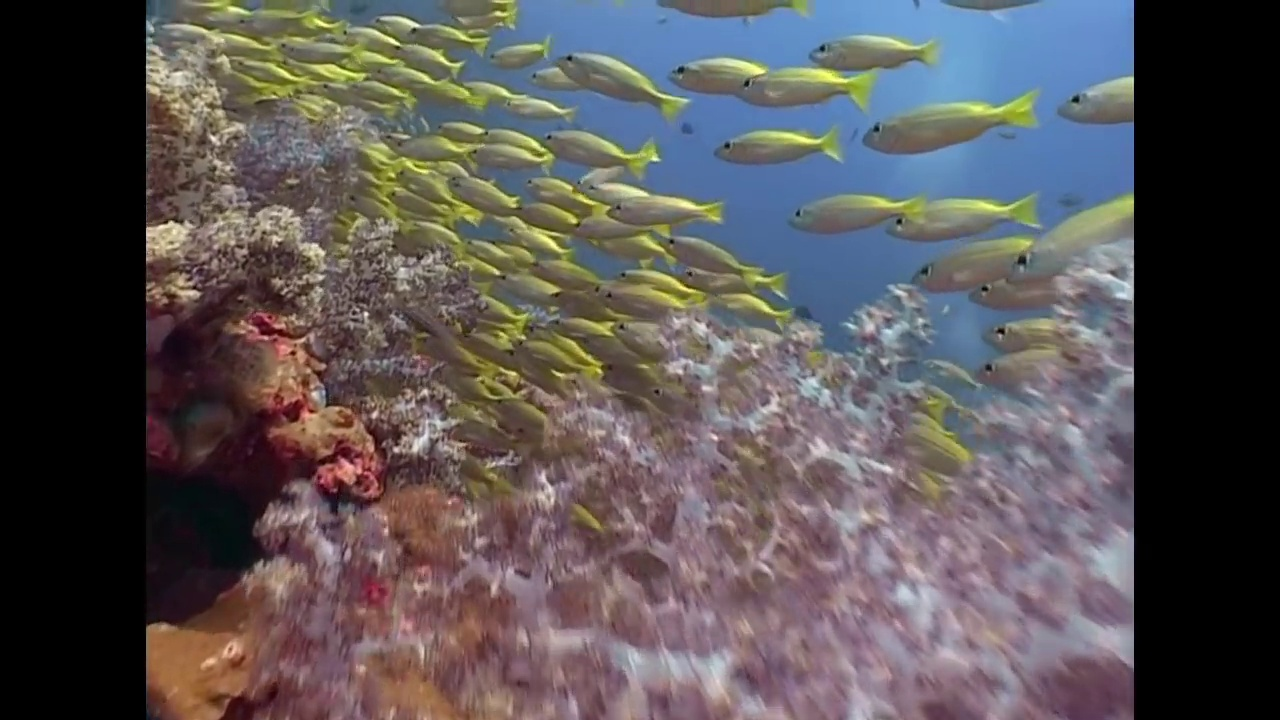big eye snapper: (1009, 191, 1131, 278), (857, 96, 1034, 150), (559, 44, 679, 118), (784, 185, 927, 231), (887, 188, 1035, 231), (737, 59, 874, 102), (804, 26, 934, 71), (536, 123, 651, 171), (906, 244, 1027, 286), (710, 126, 844, 163), (604, 191, 723, 226), (676, 264, 791, 299), (444, 164, 516, 219), (664, 53, 765, 92), (664, 234, 758, 274), (974, 345, 1052, 391), (1047, 77, 1131, 117), (716, 290, 790, 335), (313, 77, 403, 114), (509, 333, 585, 375), (382, 123, 466, 159), (971, 275, 1058, 309), (405, 13, 480, 51), (382, 39, 460, 75), (599, 284, 680, 317), (616, 264, 696, 297), (274, 38, 359, 65), (528, 257, 599, 288), (483, 30, 549, 62), (541, 308, 613, 337), (500, 84, 563, 117), (465, 141, 542, 167), (493, 271, 553, 304), (493, 271, 553, 302), (572, 211, 651, 234), (527, 55, 580, 88), (340, 19, 391, 52), (985, 321, 1056, 344), (511, 203, 568, 230), (485, 121, 541, 146)
